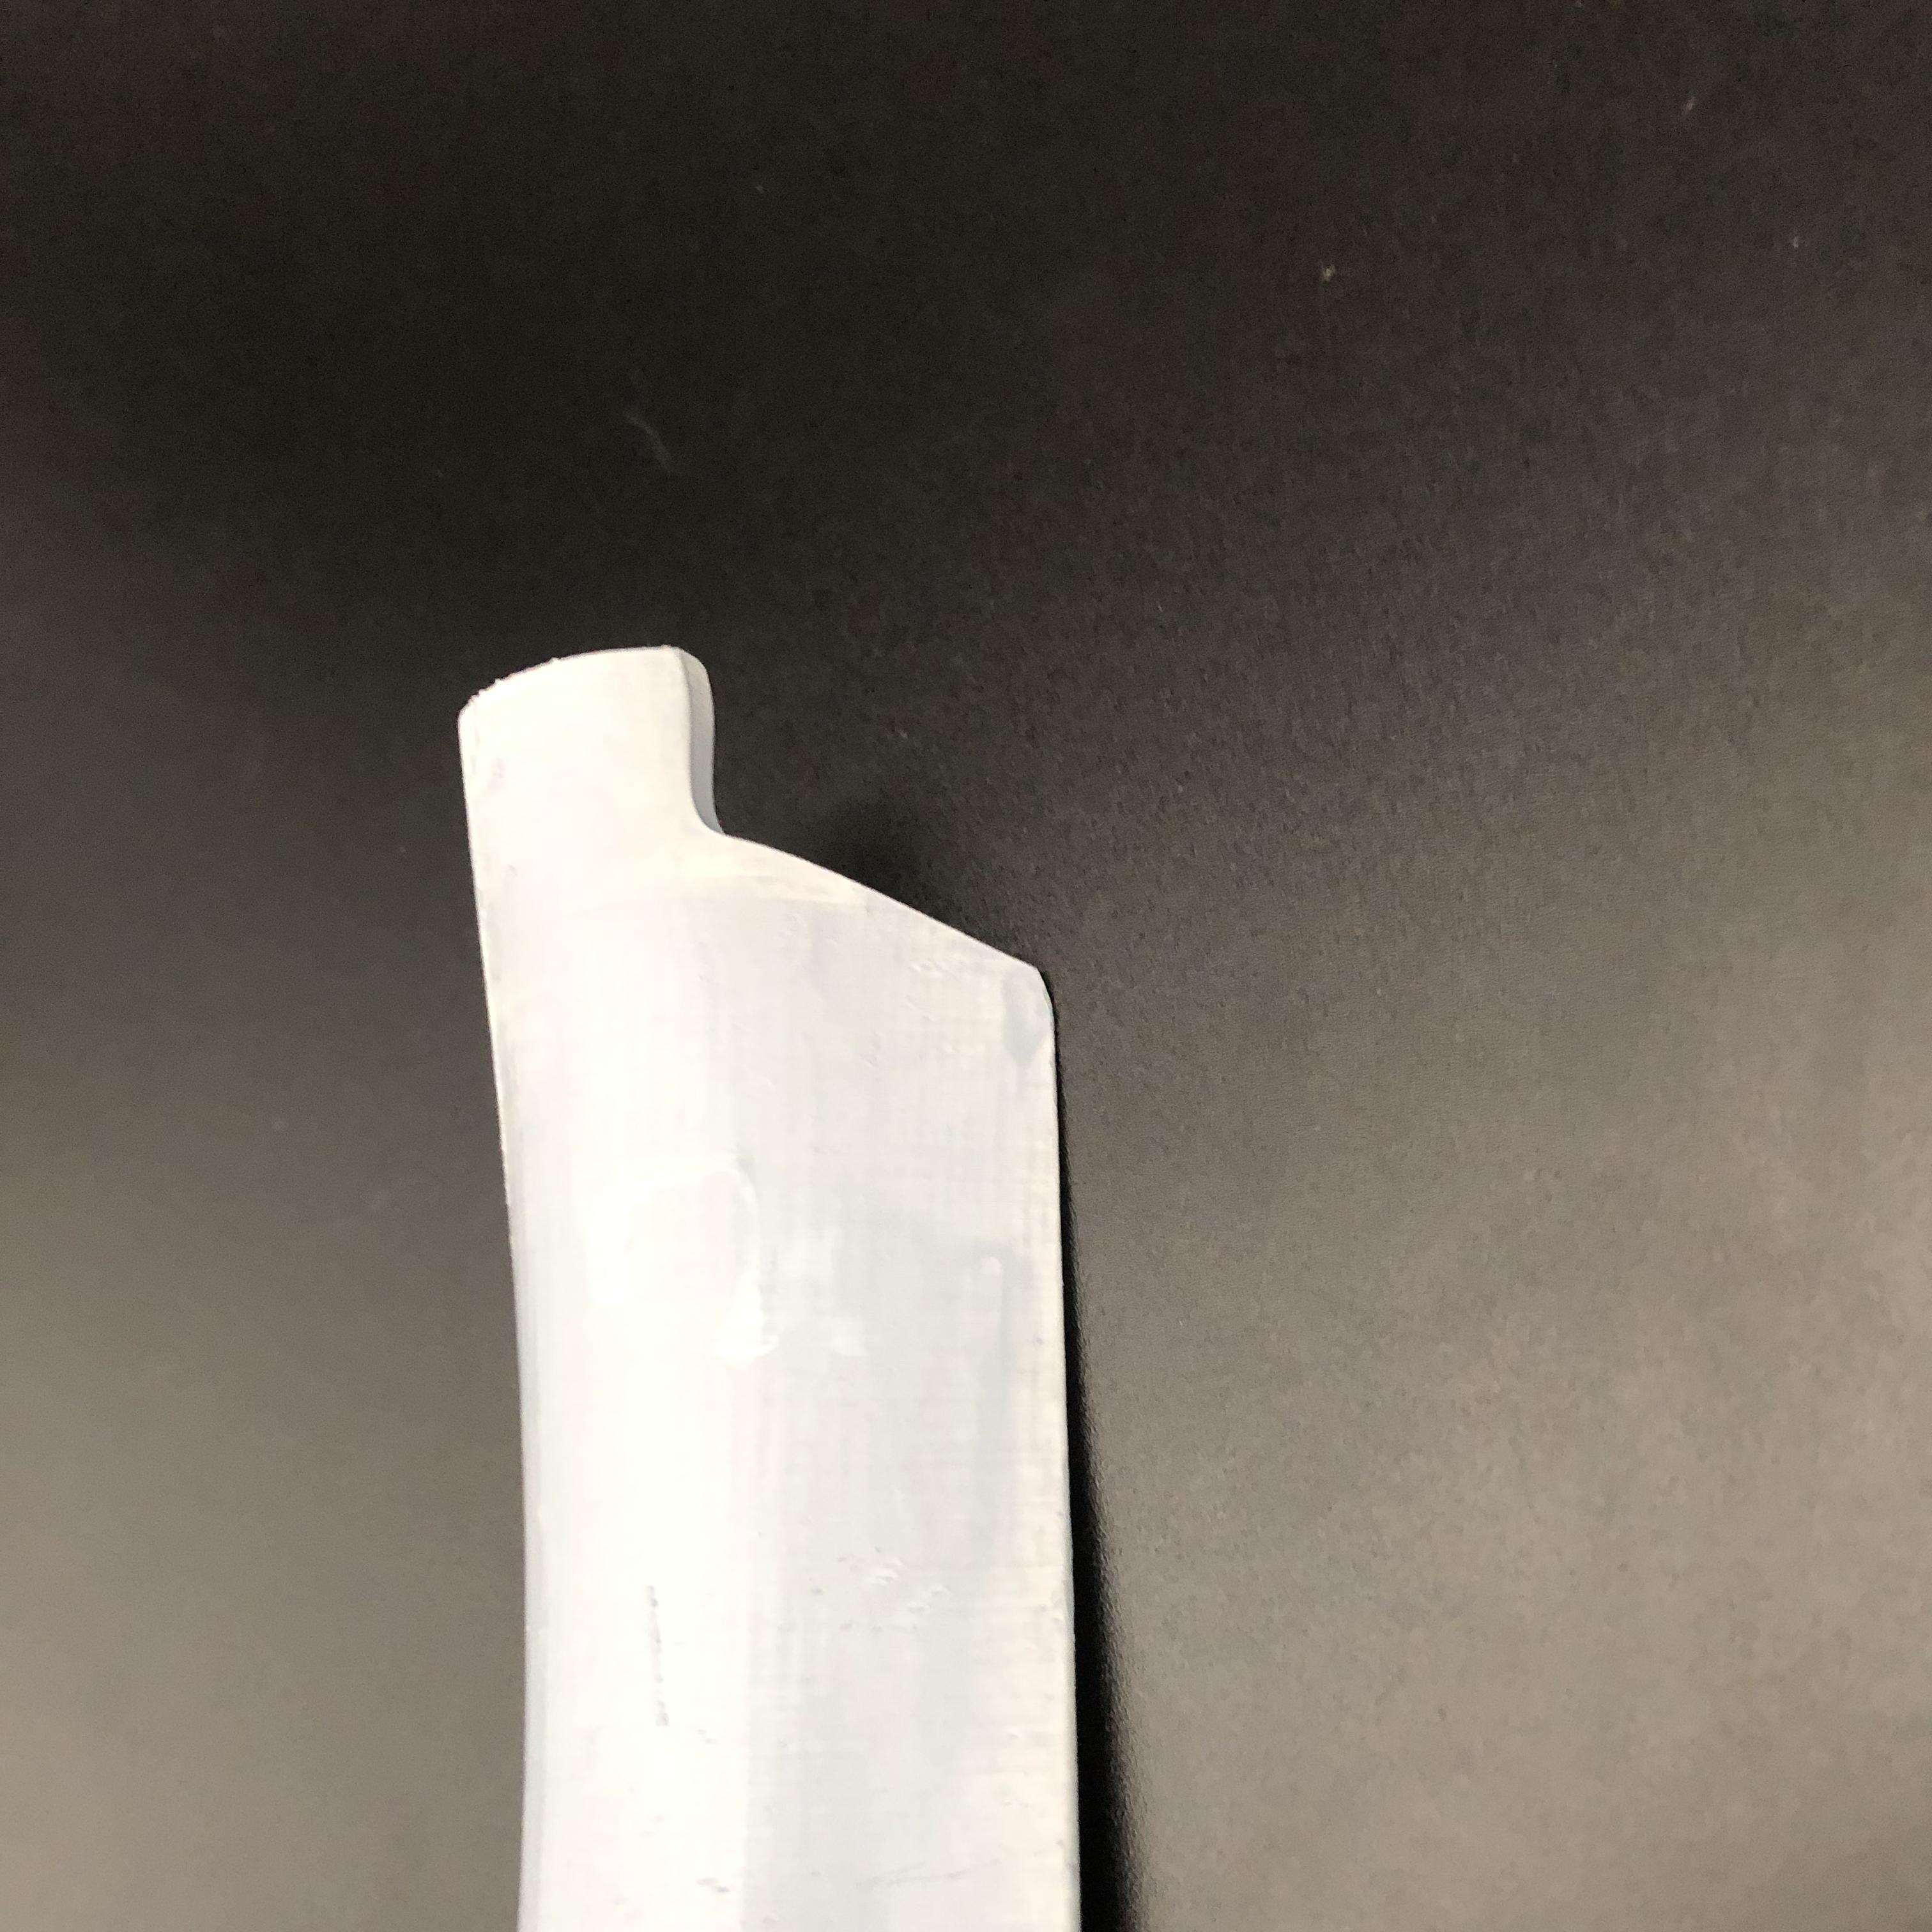fracture: (658, 676, 1024, 968)
